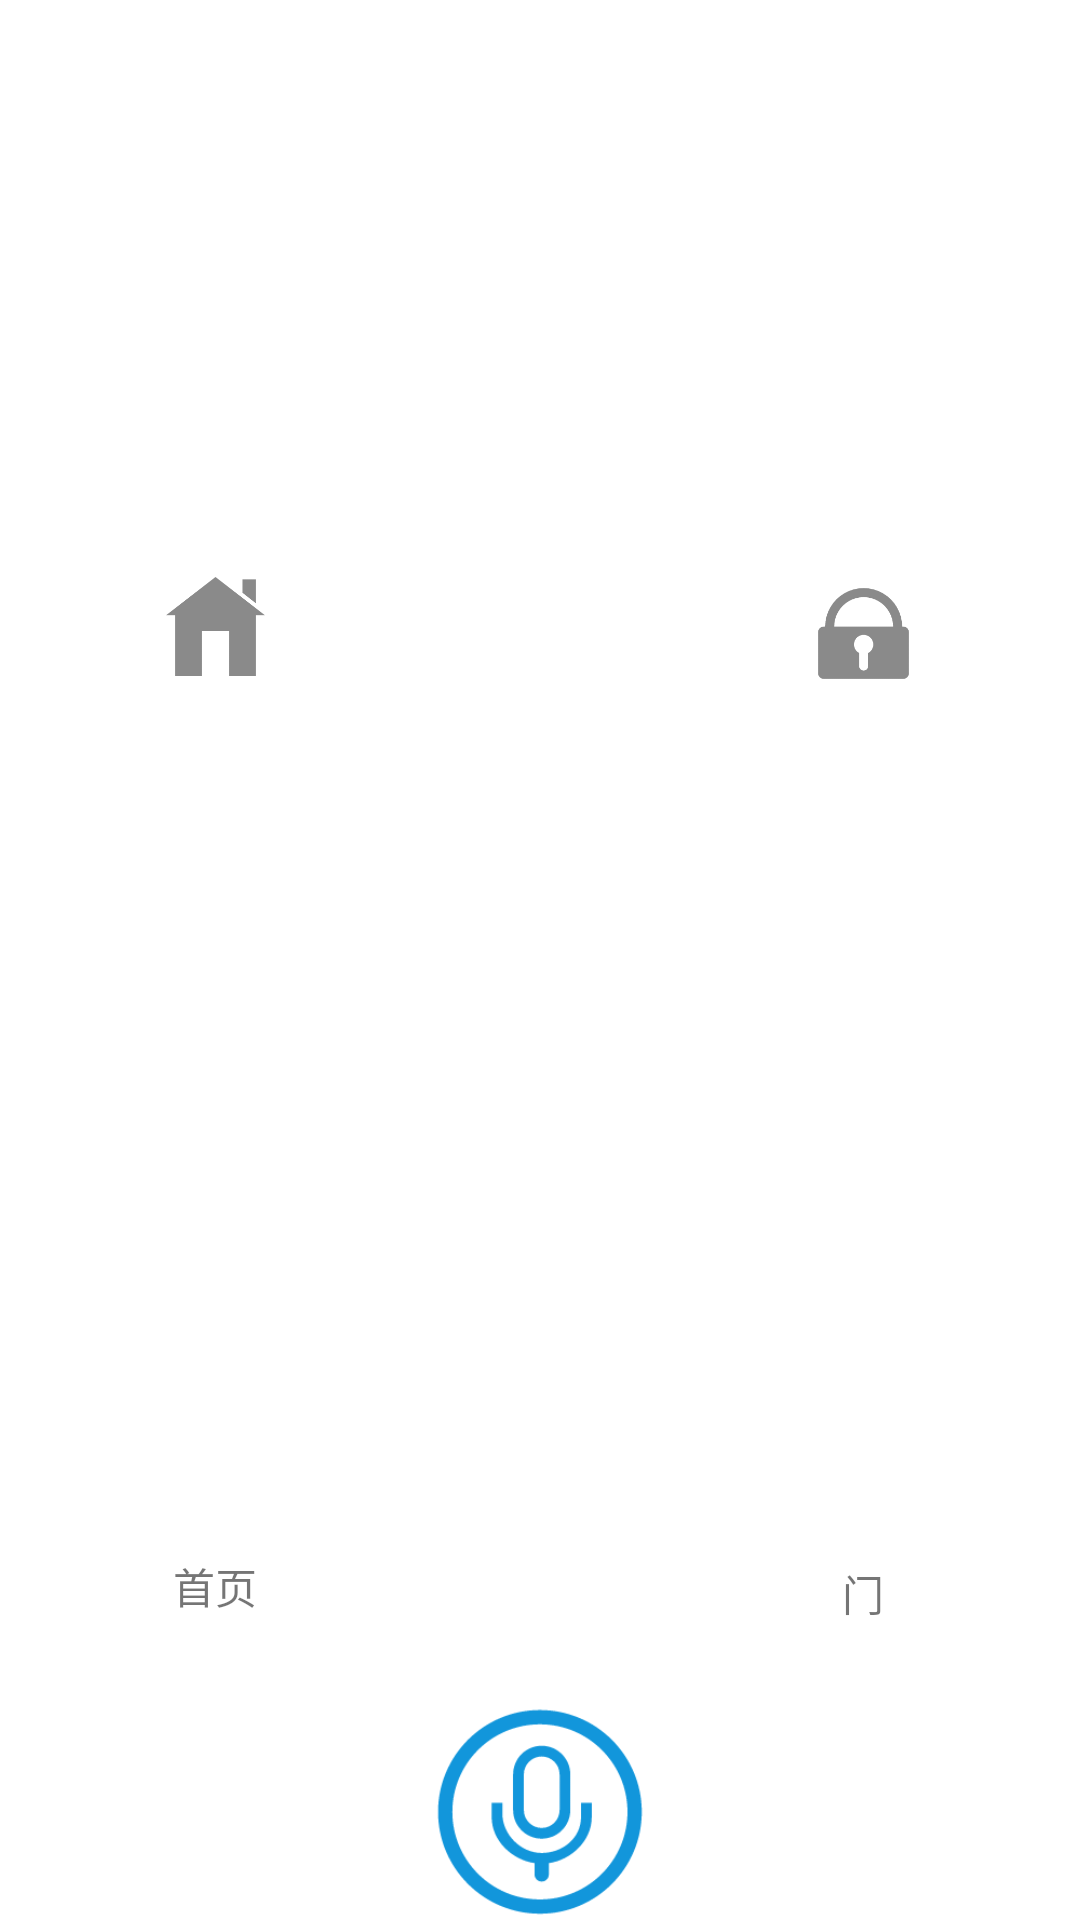

Where to tap for icons on this 1080w x 1920h app screen, as point (x, y):
door unselect: point (863, 633)
house unselect: point (215, 626)
speech: point (540, 1812)
